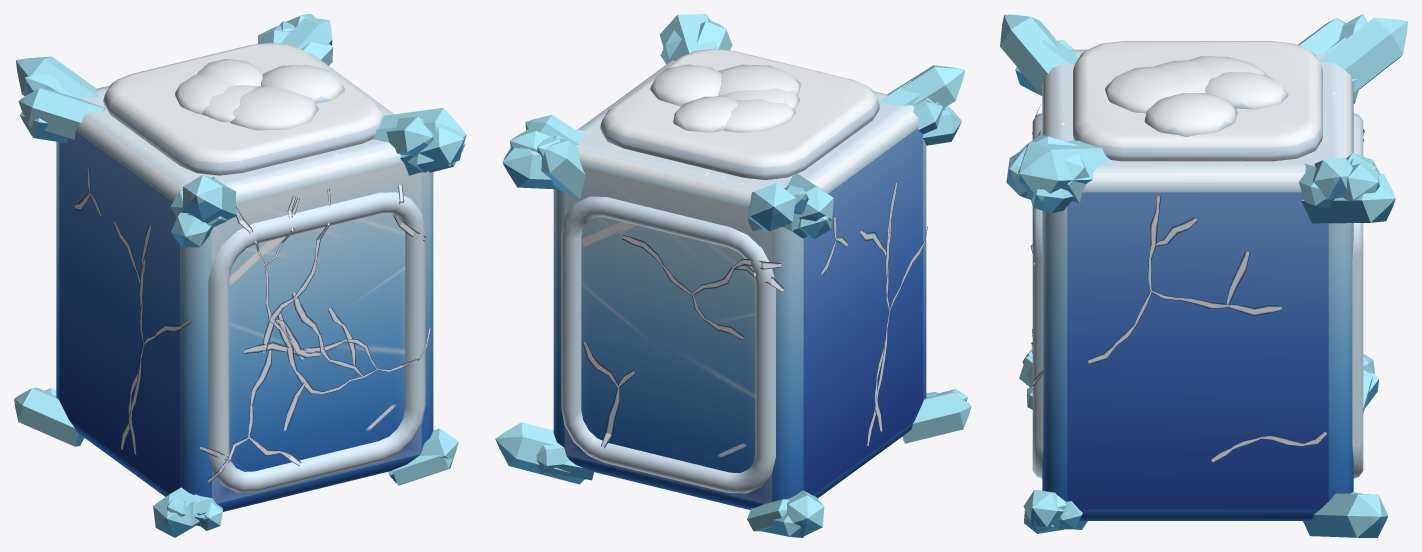
Rendered from IceBlockC.fbx.
The picture shows the model from 3 angles, left to right: view 1: azimuth 30°, elevation 25°; view 2: azimuth 150°, elevation 25°; view 3: azimuth 270°, elevation 25°; orthographic projection. The views are drawn at different scales.
Parts seen in each view (by area): view 1: IceBlockCShell, IceBlockCSnow, IceBlockCGlass, IceBlockCCrack4, IceBlockCCrack3, IceBlockCCrack2; view 2: IceBlockCShell, IceBlockCSnow, IceBlockCGlass, IceBlockCCrack4, IceBlockCCrack3; view 3: IceBlockCShell, IceBlockCSnow, IceBlockCGlass, IceBlockCCrack4, IceBlockCCrack3.
Boxes of the visible parts, <box> form: IceBlockCShell: <box>56,53,433,511</box>; IceBlockCSnow: <box>103,42,384,175</box>; IceBlockCGlass: <box>14,14,466,537</box>; IceBlockCCrack4: <box>74,168,426,482</box>; IceBlockCCrack3: <box>130,195,355,472</box>; IceBlockCCrack2: <box>140,189,430,394</box>; IceBlockCShell: <box>553,60,926,509</box>; IceBlockCSnow: <box>600,48,879,179</box>; IceBlockCGlass: <box>495,14,971,537</box>; IceBlockCCrack4: <box>583,183,927,448</box>; IceBlockCCrack3: <box>663,230,925,392</box>; IceBlockCShell: <box>1032,49,1363,520</box>; IceBlockCSnow: <box>1060,41,1335,166</box>; IceBlockCGlass: <box>1000,14,1407,537</box>; IceBlockCCrack4: <box>1030,129,1364,462</box>; IceBlockCCrack3: <box>1031,104,1304,449</box>.
Size of the model in its own units: 144 by 163 by 147.
